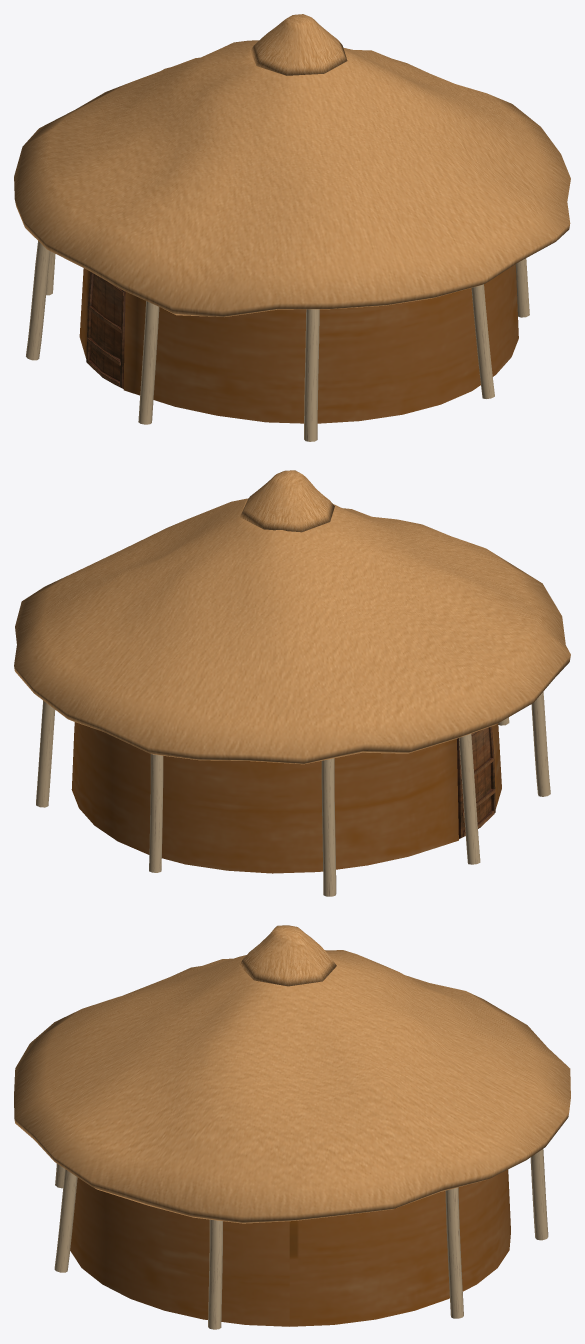
File: House 7.fbx
3 views of the same model, one above another, from view 1: azimuth 30°, elevation 25°; view 2: azimuth 150°, elevation 25°; view 3: azimuth 270°, elevation 25° (orthographic). The views are drawn at different scales.
Visible parts, largest first — view 1: House.007; view 2: House.007; view 3: House.007.
Part boxes in pixels (x1,y1,x2,y2): House.007: [14, 14, 570, 441]; House.007: [14, 470, 570, 896]; House.007: [14, 925, 570, 1329].
Bounding box in the file's own units: 4.09 × 2.49 × 4.04.
